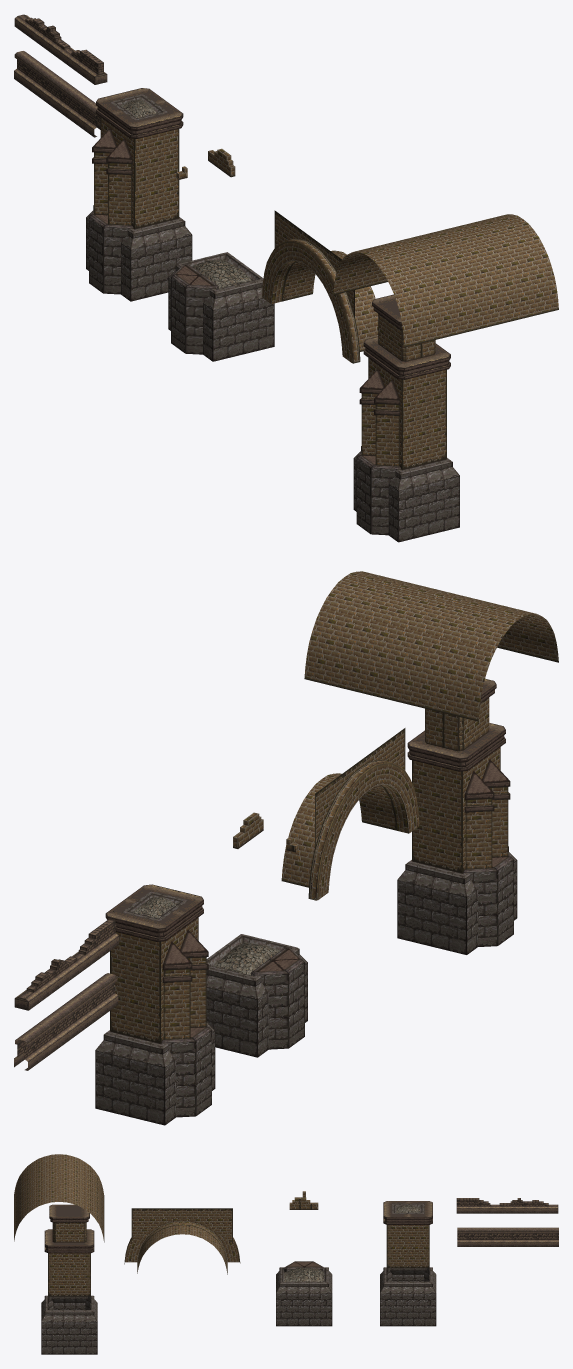
Rendered from EnvObjMD_Bridge_Built_A_Arch_A.FBX.
3 views of the same model, one above another, from view 1: azimuth 30°, elevation 25°; view 2: azimuth 150°, elevation 25°; view 3: azimuth 270°, elevation 25° (orthographic). The views are drawn at different scales.
Parts seen in each view (by area): view 1: EnvObjMD_Bridge_Built_A_Piller_A, EnvObjMD_Bridge_Built_A_Arch_A_Loop, EnvObjMD_Bridge_Built_A_Piller_B, EnvObjMD_Bridge_Built_A_Piller_C, EnvObjMD_Bridge_Built_A_Arch_A, EnvObjMD_Bridge_Built_A_Fence_A, EnvObjMD_Bridge_Built_A_Fence_B; view 2: EnvObjMD_Bridge_Built_A_Piller_A, EnvObjMD_Bridge_Built_A_Arch_A_Loop, EnvObjMD_Bridge_Built_A_Piller_B, EnvObjMD_Bridge_Built_A_Piller_C, EnvObjMD_Bridge_Built_A_Arch_A, EnvObjMD_Bridge_Built_A_Fence_A, EnvObjMD_Bridge_Built_A_Fence_B; view 3: EnvObjMD_Bridge_Built_A_Piller_A, EnvObjMD_Bridge_Built_A_Piller_B, EnvObjMD_Bridge_Built_A_Arch_A_Loop, EnvObjMD_Bridge_Built_A_Arch_A, EnvObjMD_Bridge_Built_A_Piller_C, EnvObjMD_Bridge_Built_A_Fence_A, EnvObjMD_Bridge_Built_A_Fence_B, EnvObjMD_Bridge_Built_A_Renga_A.
Part boxes in pixels (x1,y1,x2,y2): EnvObjMD_Bridge_Built_A_Piller_A: (353, 294, 459, 542); EnvObjMD_Bridge_Built_A_Arch_A_Loop: (333, 214, 558, 347); EnvObjMD_Bridge_Built_A_Piller_B: (86, 88, 192, 301); EnvObjMD_Bridge_Built_A_Piller_C: (168, 252, 274, 361); EnvObjMD_Bridge_Built_A_Arch_A: (262, 210, 378, 363); EnvObjMD_Bridge_Built_A_Fence_A: (14, 51, 100, 137); EnvObjMD_Bridge_Built_A_Fence_B: (14, 14, 107, 84); EnvObjMD_Bridge_Built_A_Piller_A: (397, 678, 517, 954); EnvObjMD_Bridge_Built_A_Arch_A_Loop: (304, 571, 558, 721); EnvObjMD_Bridge_Built_A_Piller_B: (95, 884, 215, 1125); EnvObjMD_Bridge_Built_A_Piller_C: (206, 934, 307, 1057); EnvObjMD_Bridge_Built_A_Arch_A: (281, 728, 419, 900); EnvObjMD_Bridge_Built_A_Fence_A: (14, 973, 118, 1070); EnvObjMD_Bridge_Built_A_Fence_B: (14, 919, 119, 1010); EnvObjMD_Bridge_Built_A_Piller_A: (41, 1204, 97, 1354); EnvObjMD_Bridge_Built_A_Piller_B: (380, 1201, 436, 1326); EnvObjMD_Bridge_Built_A_Arch_A_Loop: (14, 1154, 104, 1242); EnvObjMD_Bridge_Built_A_Arch_A: (124, 1208, 240, 1274); EnvObjMD_Bridge_Built_A_Piller_C: (276, 1261, 332, 1326); EnvObjMD_Bridge_Built_A_Fence_A: (457, 1227, 558, 1246); EnvObjMD_Bridge_Built_A_Fence_B: (456, 1198, 558, 1213); EnvObjMD_Bridge_Built_A_Renga_A: (289, 1197, 318, 1209).
Size of the model in its own units: 1000 by 1727 by 4830.
Materials: 1 (1 with a texture image).
